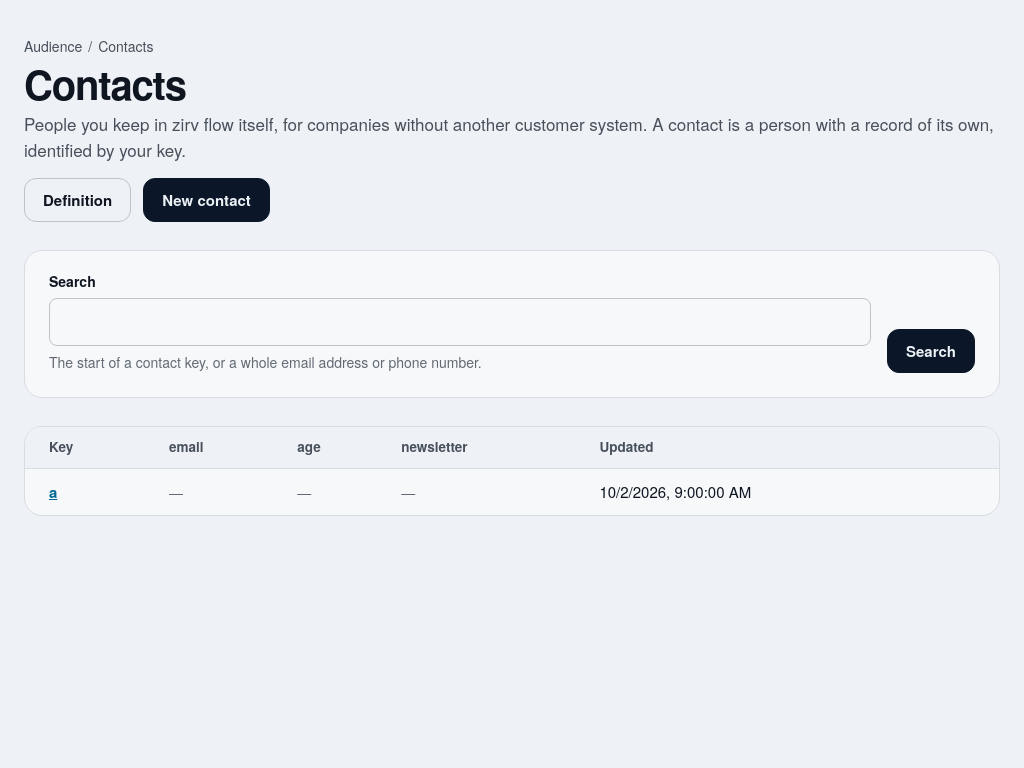
Scenario: contacts list › says when a search matches nothing
The width and height of the screenshot is (1024, 768).
Expected: the link "a" is shown, [49,481,57,503]
Type "zzz" into the field labelled "Search".
click(460, 322); type("zzz")  # box [49,298,871,346]
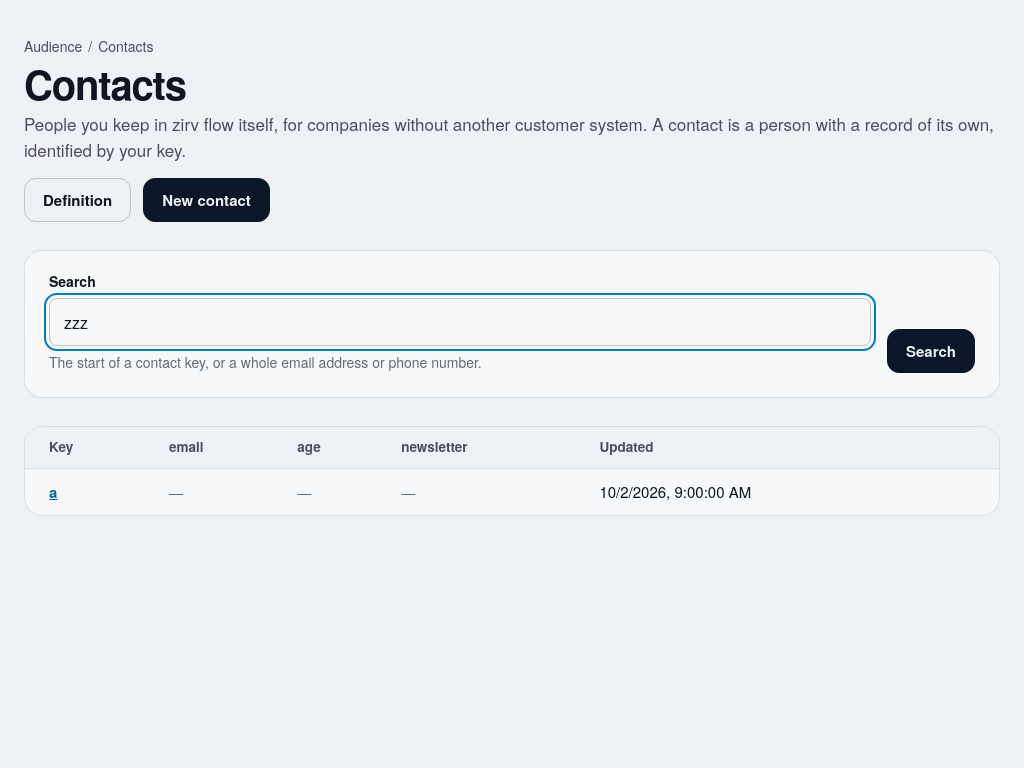
Click the button "Search".
click(931, 351)  # box [887,329,975,373]
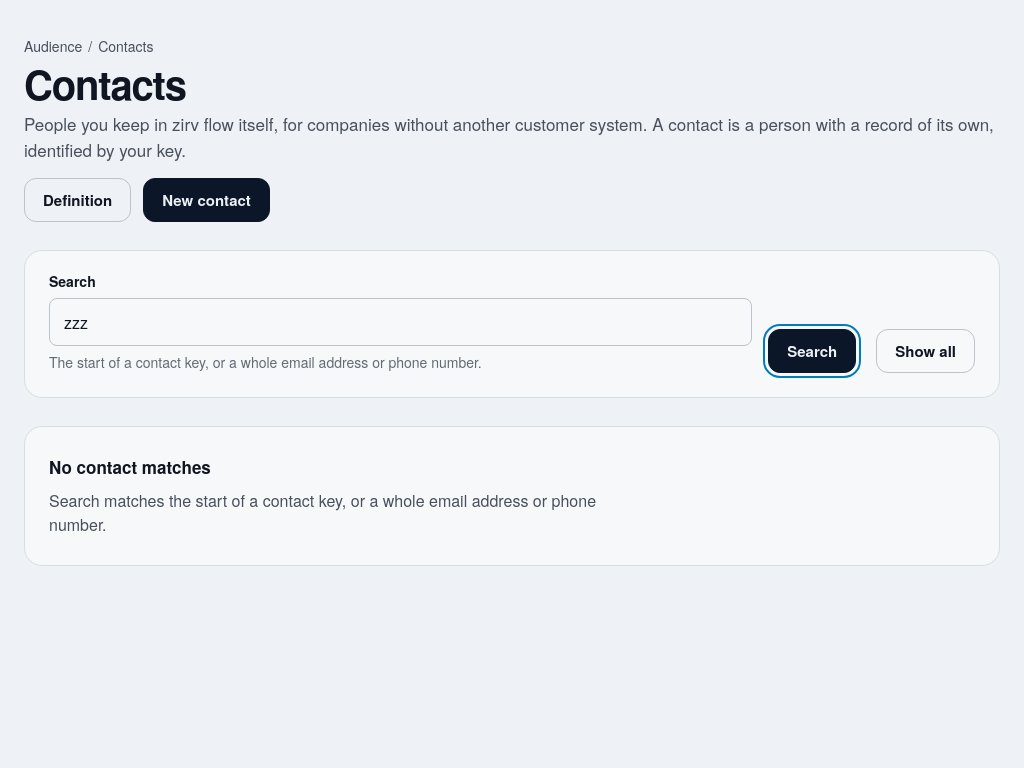
Result: the text "No contact matches" is shown at [49,455,211,481]
